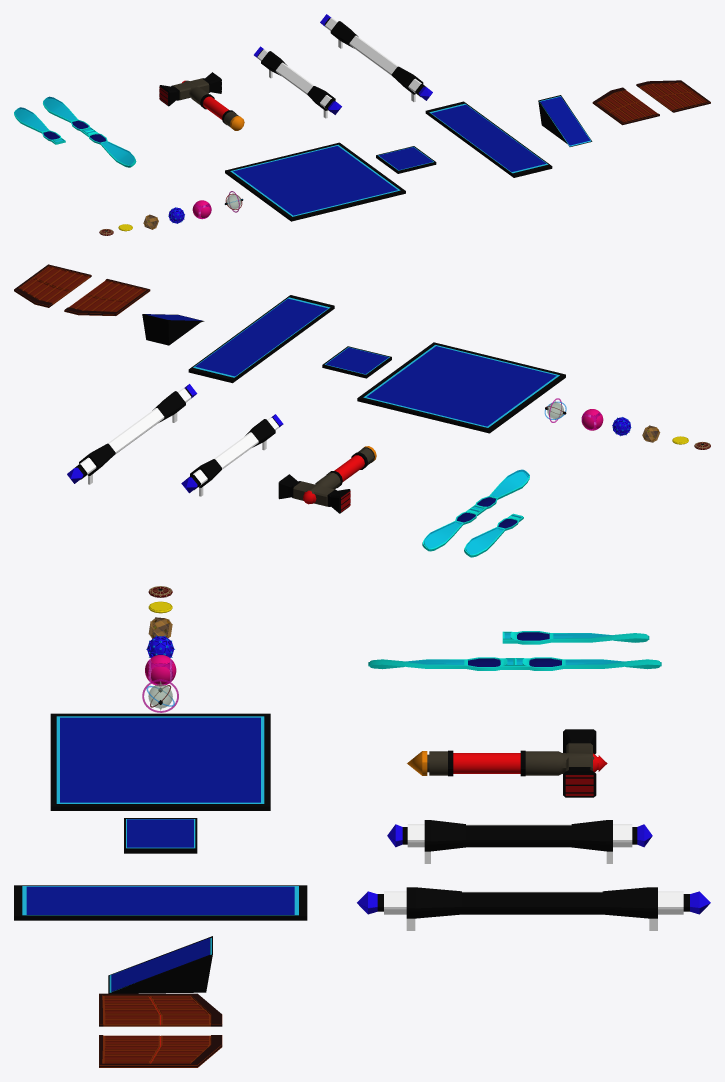
3 views of the same model, one above another, from view 1: azimuth 30°, elevation 25°; view 2: azimuth 150°, elevation 25°; view 3: azimuth 270°, elevation 25° (orthographic). The views are drawn at different scales.
Visible parts, largest first — view 1: Lar. dis, Hall, Hammer, Handrail2, Hall.001, Handrail, r door, l door, fan, sm. distr, Fan 2; view 2: Lar. dis, Hall, Hammer, Handrail2, Handrail, r door, l door, fan, sm. distr, Hall.001, Fan 2; view 3: Lar. dis, Hall, Handrail2, Handrail, Hammer, l door, Hall.001, r door, fan, sm. distr, Fan 2, Ball 2.
Boxes of the visible parts, bbox=[...] form: Lar. dis: bbox=[225, 142, 405, 221]; Hall: bbox=[425, 101, 552, 177]; Hammer: bbox=[159, 72, 244, 130]; Handrail2: bbox=[320, 14, 432, 101]; Hall.001: bbox=[538, 95, 592, 146]; Handrail: bbox=[254, 46, 341, 118]; r door: bbox=[636, 80, 710, 112]; l door: bbox=[592, 87, 659, 125]; fan: bbox=[43, 96, 136, 167]; sm. distr: bbox=[376, 146, 436, 173]; Fan 2: bbox=[14, 107, 65, 144]; Lar. dis: bbox=[357, 342, 565, 433]; Hall: bbox=[188, 295, 334, 383]; Hammer: bbox=[278, 446, 376, 513]; Handrail2: bbox=[67, 384, 197, 484]; Handrail: bbox=[181, 414, 283, 496]; r door: bbox=[14, 264, 91, 307]; l door: bbox=[64, 279, 150, 315]; fan: bbox=[422, 469, 529, 551]; sm. distr: bbox=[322, 346, 391, 378]; Hall.001: bbox=[142, 314, 204, 345]; Fan 2: bbox=[464, 513, 523, 557]; Lar. dis: bbox=[50, 713, 270, 810]; Hall: bbox=[14, 885, 307, 920]; Handrail2: bbox=[357, 887, 710, 930]; Handrail: bbox=[387, 820, 652, 863]; Hammer: bbox=[407, 729, 607, 797]; l door: bbox=[99, 993, 222, 1026]; Hall.001: bbox=[108, 936, 212, 993]; r door: bbox=[99, 1035, 222, 1067]; fan: bbox=[368, 657, 661, 670]; sm. distr: bbox=[124, 818, 197, 853]; Fan 2: bbox=[502, 631, 649, 644]; Ball 2: bbox=[145, 655, 176, 685].
Bounding box in the file's own units: 9294 × 426 × 5704.
